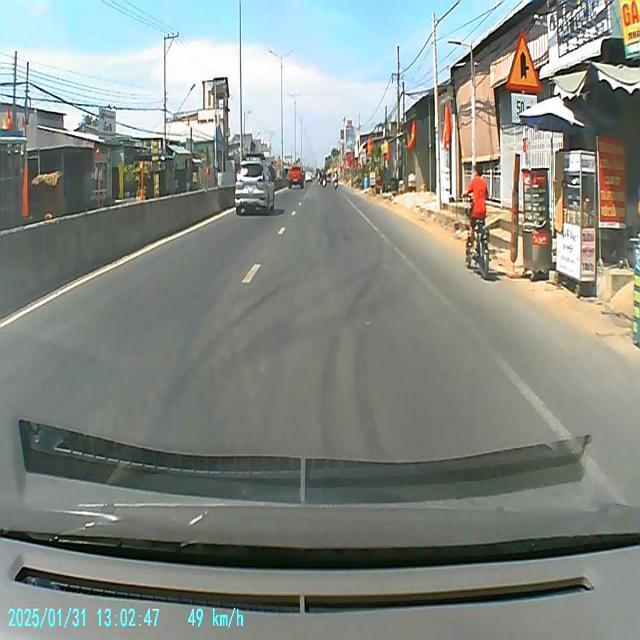207-giao-nhau-voi-duong-khong-uu-tien: (507, 26, 542, 94)
